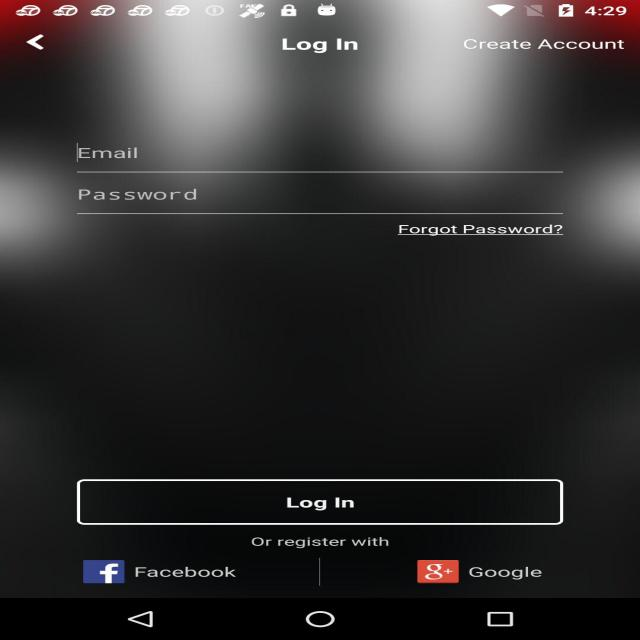button: (45, 458, 640, 532), (54, 550, 258, 591), (401, 558, 590, 588), (444, 30, 640, 56), (379, 221, 610, 240), (11, 28, 73, 53)
text: (56, 134, 586, 216), (232, 534, 406, 557), (269, 36, 370, 61)
